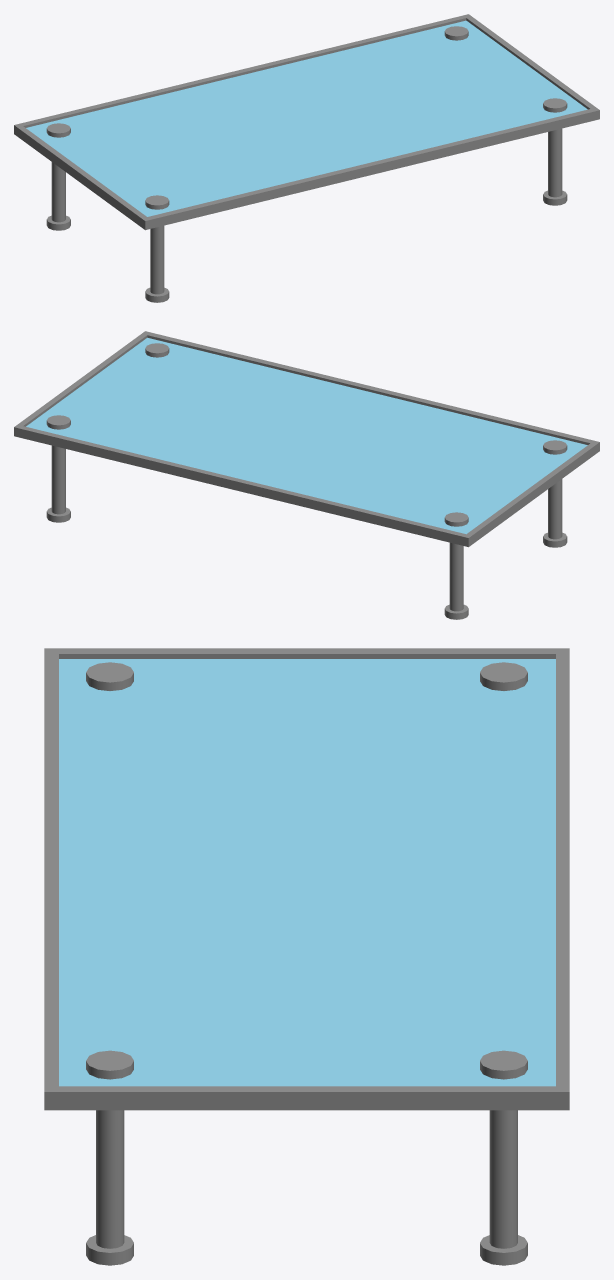
Rendered from Table_01.FBX.
3 renders of one model, top to bottom at view 1: azimuth 30°, elevation 25°; view 2: azimuth 150°, elevation 25°; view 3: azimuth 270°, elevation 25°, orthographic. The views are drawn at different scales.
Visible parts, largest first — view 1: Table_01; view 2: Table_01; view 3: Table_01.
Boxes of the visible parts, box(x1,y1,x2,y2) form: Table_01: box(14, 14, 599, 302); Table_01: box(14, 331, 599, 619); Table_01: box(44, 648, 569, 1265).
Bounding box in the file's own units: 2.99 × 0.6124 × 1.5.
